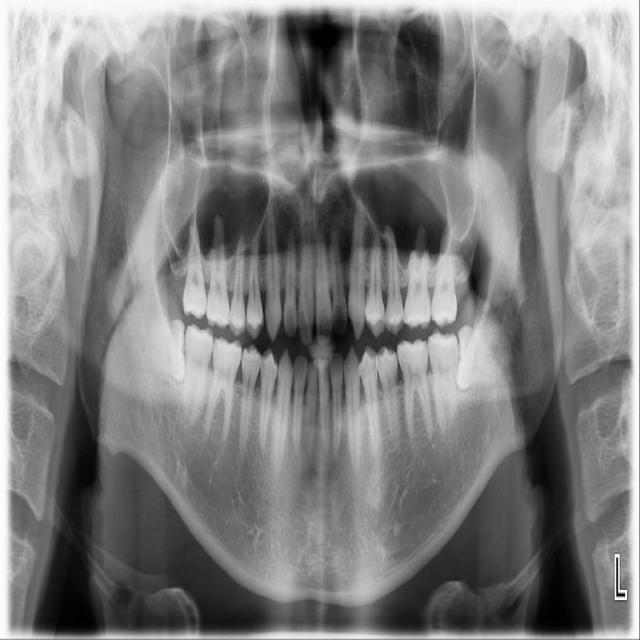impacted tooth: (455, 323, 511, 389), (131, 320, 187, 383)
